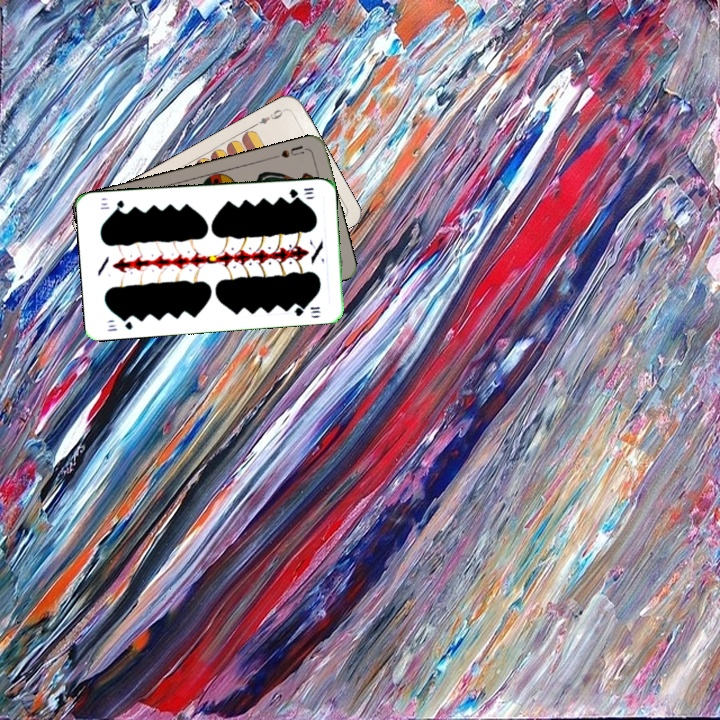E9: (250, 105, 288, 129)
G10: (103, 314, 135, 334), (285, 183, 316, 200)
SU: (269, 141, 310, 161)
